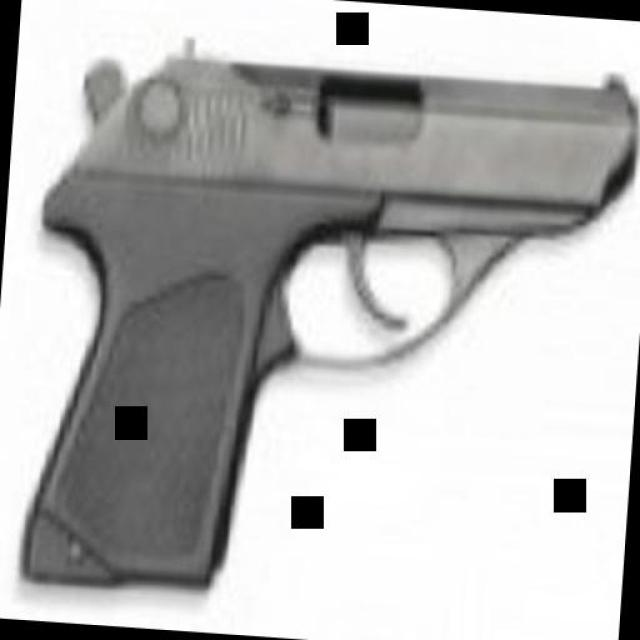gun: (7, 26, 640, 621)
